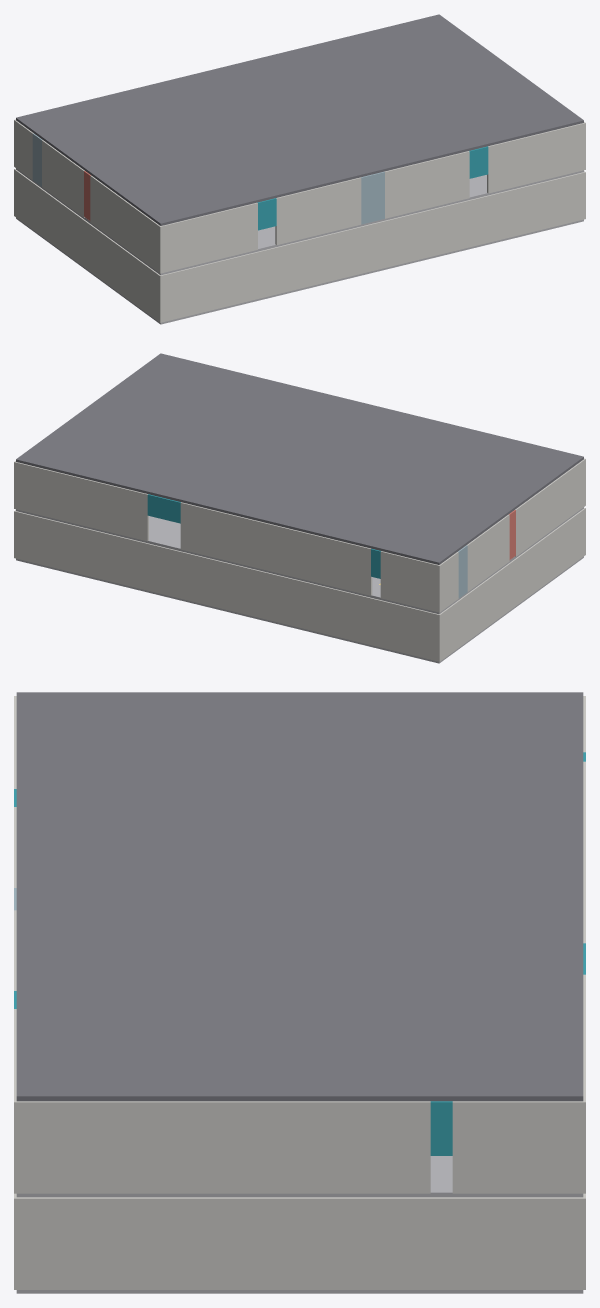
The model's file is airport_terminal_a02.glb.
3 renders of one model, top to bottom at view 1: azimuth 30°, elevation 25°; view 2: azimuth 150°, elevation 25°; view 3: azimuth 270°, elevation 25°, orthographic. The views are drawn at different scales.
Visible parts, largest first — view 1: slab_1_t0_0, slab_1_t0_4, slab_1_t0_2, slab_1_t0_6, slab_1_t0_9, slab_1_t0_5, slab_1_t0_3, slab_1_t0_7, slab_1_t0_8, slab_1_t0_1, slab_1_t0_10, slab_1_t5_0 (+146 smaller); view 2: slab_1_t6_0, slab_1_t6_4, slab_1_t6_2, slab_1_t6_6, slab_1_t6_9, slab_1_t6_5, slab_1_t6_3, slab_1_t6_7, slab_1_t6_8, slab_1_t6_1, slab_1_t6_10, slab_1_t1_0 (+146 smaller); view 3: slab_1_t0_10, slab_1_t1_10, slab_1_t2_10, slab_1_t4_10, slab_1_t5_10, slab_1_t6_10, slab_1_t3_10, ext_-1_E_seg6, ext_0_E_seg6, ext_-1_E_seg0, ext_-1_E_seg1, ext_-1_E_seg2 (+99 smaller).
Boxes of the visible parts, bbox=[...] form: slab_1_t0_0: bbox=[140, 199, 199, 225]; slab_1_t0_4: bbox=[294, 161, 353, 188]; slab_1_t0_2: bbox=[217, 180, 276, 207]; slab_1_t0_6: bbox=[371, 143, 430, 169]; slab_1_t0_9: bbox=[487, 114, 545, 141]; slab_1_t0_5: bbox=[333, 152, 391, 178]; slab_1_t0_3: bbox=[256, 171, 314, 197]; slab_1_t0_7: bbox=[410, 133, 468, 160]; slab_1_t0_8: bbox=[448, 124, 506, 150]; slab_1_t0_1: bbox=[179, 190, 237, 216]; slab_1_t0_10: bbox=[525, 105, 583, 131]; slab_1_t5_0: bbox=[36, 123, 95, 149]; slab_1_t6_0: bbox=[400, 538, 459, 564]; slab_1_t6_4: bbox=[246, 500, 305, 527]; slab_1_t6_2: bbox=[323, 519, 382, 546]; slab_1_t6_6: bbox=[169, 482, 228, 508]; slab_1_t6_9: bbox=[54, 453, 112, 480]; slab_1_t6_5: bbox=[208, 491, 266, 517]; slab_1_t6_3: bbox=[285, 510, 343, 536]; slab_1_t6_7: bbox=[131, 472, 189, 499]; slab_1_t6_8: bbox=[93, 463, 151, 489]; slab_1_t6_1: bbox=[362, 529, 420, 555]; slab_1_t6_10: bbox=[16, 444, 74, 470]; slab_1_t1_0: bbox=[504, 462, 563, 488]; slab_1_t0_10: bbox=[16, 1059, 97, 1101]; slab_1_t1_10: bbox=[97, 1059, 178, 1101]; slab_1_t2_10: bbox=[178, 1059, 259, 1101]; slab_1_t4_10: bbox=[340, 1059, 421, 1101]; slab_1_t5_10: bbox=[421, 1059, 502, 1101]; slab_1_t6_10: bbox=[502, 1059, 583, 1101]; slab_1_t3_10: bbox=[259, 1059, 340, 1101]; ext_-1_E_seg6: bbox=[231, 1197, 267, 1289]; ext_0_E_seg6: bbox=[231, 1101, 267, 1193]; ext_-1_E_seg0: bbox=[19, 1197, 54, 1289]; ext_-1_E_seg1: bbox=[54, 1197, 89, 1289]; ext_-1_E_seg2: bbox=[90, 1197, 125, 1289].
Size of what is drawn, in the model's own units: 54.3 by 12.3 by 32.3.
